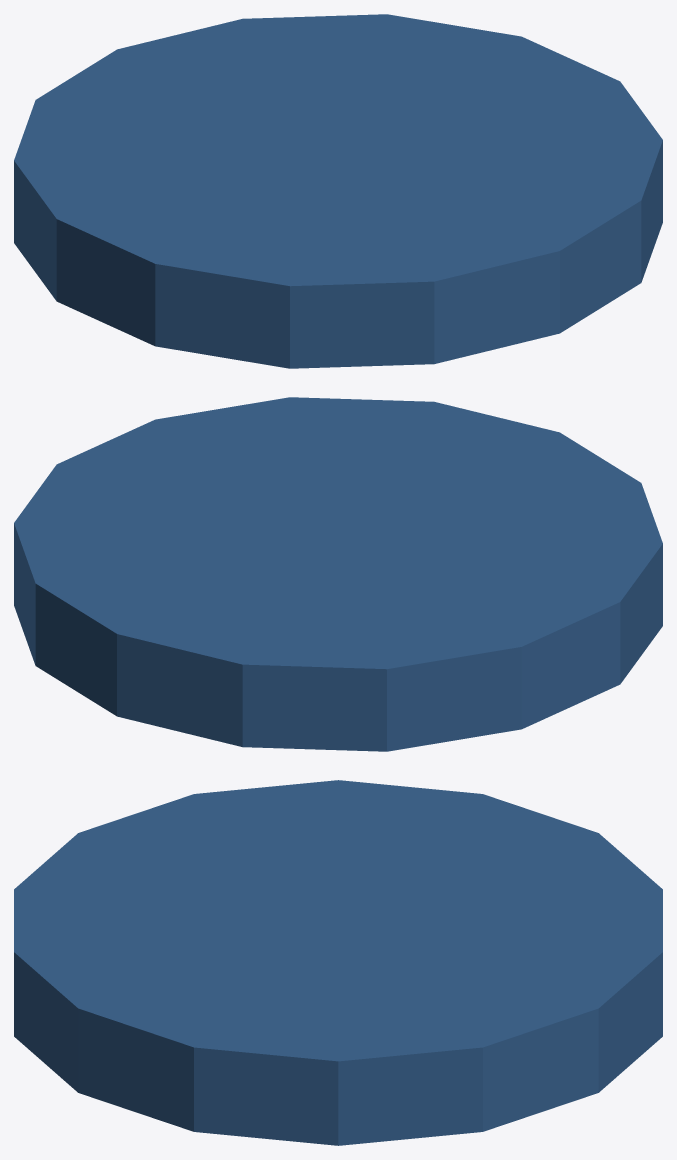
File: 0048-Buildings-shell-pieces-roof-plant-emitRoofPlant-42-triangles-1-79-x-0-25-x-1-74-.glb
3 views of the same model, one above another, from view 1: azimuth 30°, elevation 25°; view 2: azimuth 150°, elevation 25°; view 3: azimuth 270°, elevation 25° (orthographic). The views are drawn at different scales.
Parts seen in each view (by area): view 1: emitRoofPlant; view 2: emitRoofPlant; view 3: emitRoofPlant.
Part boxes in pixels (left/top/right/bottom): emitRoofPlant: left=14, top=14, right=662, bottom=368; emitRoofPlant: left=14, top=397, right=662, bottom=751; emitRoofPlant: left=14, top=780, right=662, bottom=1145.
Bounding box in the file's own units: 1.79 × 0.25 × 1.74.
